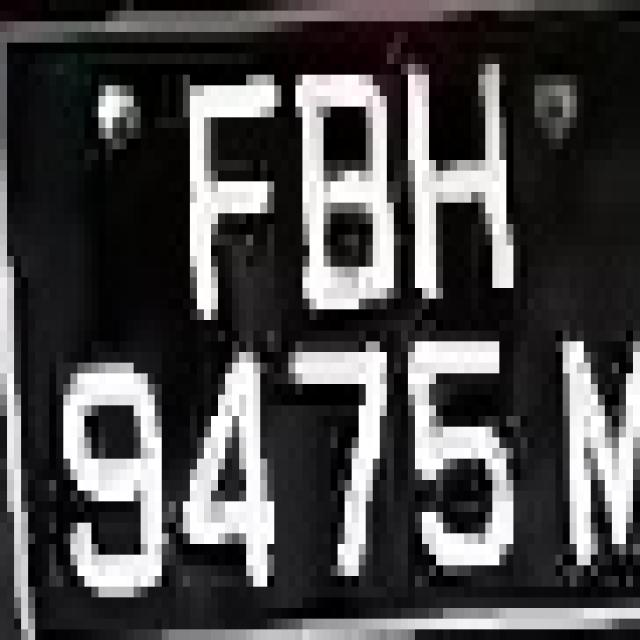4: (162, 320, 281, 619)
5: (394, 320, 520, 608)
7: (274, 309, 401, 587)
9: (49, 341, 176, 619)
B: (281, 32, 401, 341)
F: (162, 43, 288, 341)
H: (394, 32, 527, 320)
M: (6, 5, 7, 10)
